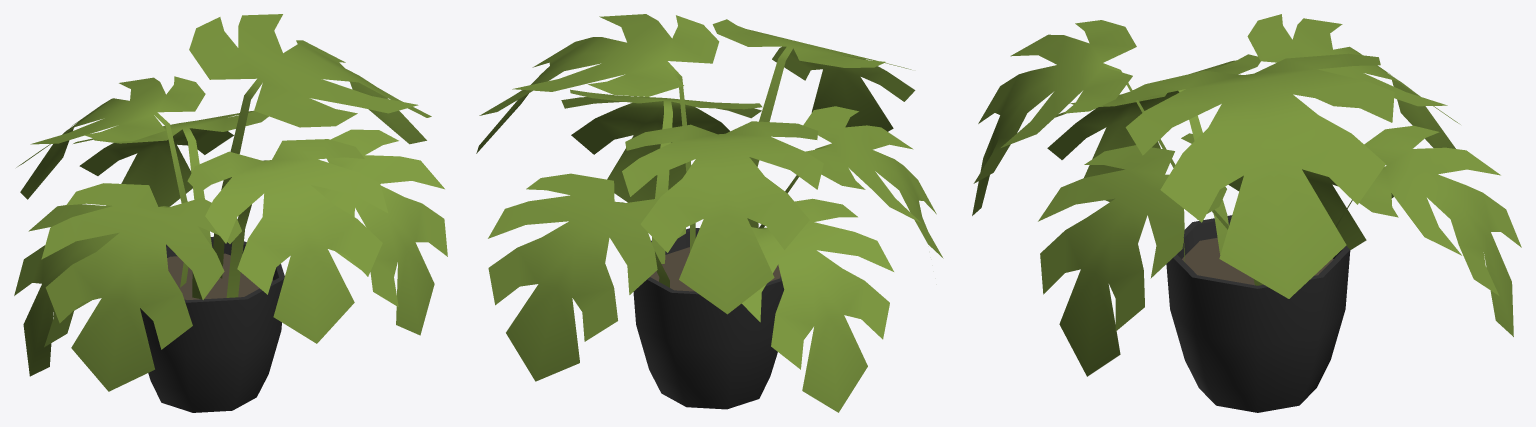
File: Houseplant 7.glb
The picture shows the model from 3 angles, left to right: view 1: azimuth 30°, elevation 25°; view 2: azimuth 150°, elevation 25°; view 3: azimuth 270°, elevation 25°; orthographic projection. The views are drawn at different scales.
Parts seen in each view (by area): view 1: Houseplant_7_Cylinder.023; view 2: Houseplant_7_Cylinder.023; view 3: Houseplant_7_Cylinder.023.
Boxes of the visible parts, box(x1,y1,x2,y2) form: Houseplant_7_Cylinder.023: box(14, 14, 447, 412); Houseplant_7_Cylinder.023: box(476, 14, 943, 412); Houseplant_7_Cylinder.023: box(972, 14, 1521, 412).
Bounding box in the file's own units: 1.17 × 0.8819 × 1.22.
